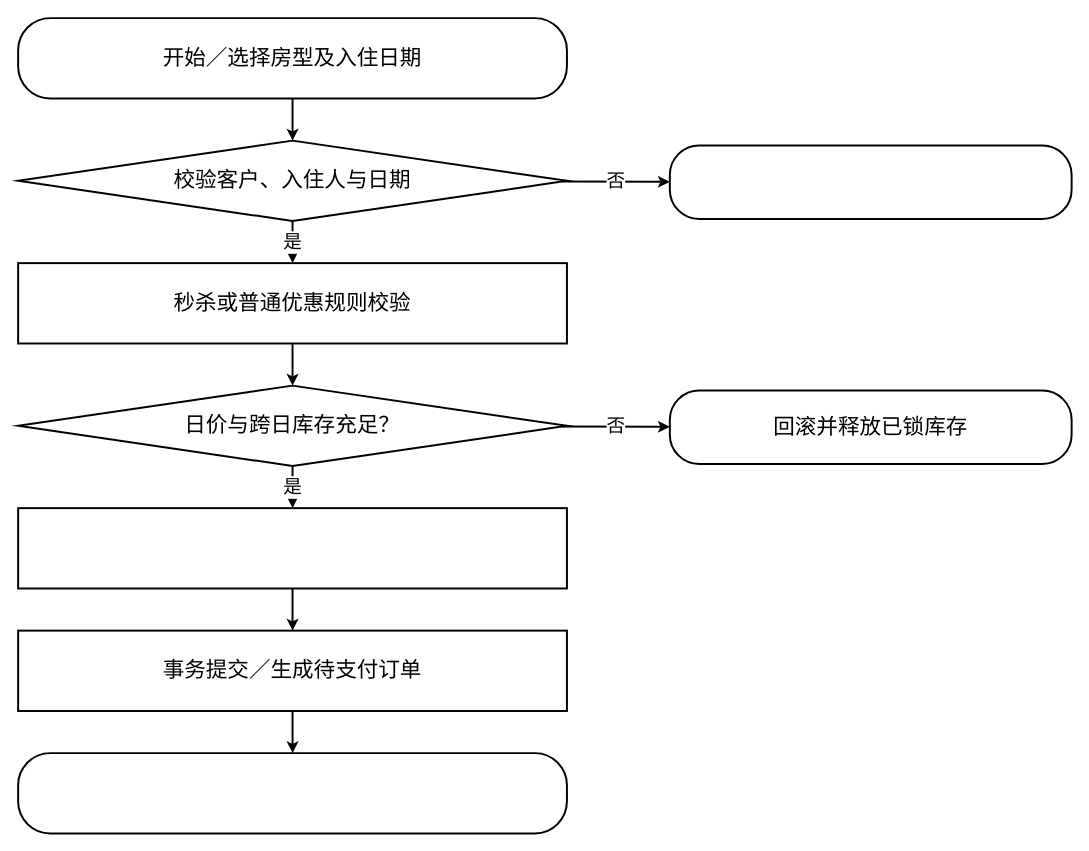
This 1089x851 diagram has some shape labels left out. The centre of each missing label's shape, as x and y in pixels:
"提示资料或日期错误" belongs at point (870, 182).
"结束" belongs at point (292, 793).
"锁定库存并写入订单" belongs at point (292, 548).
